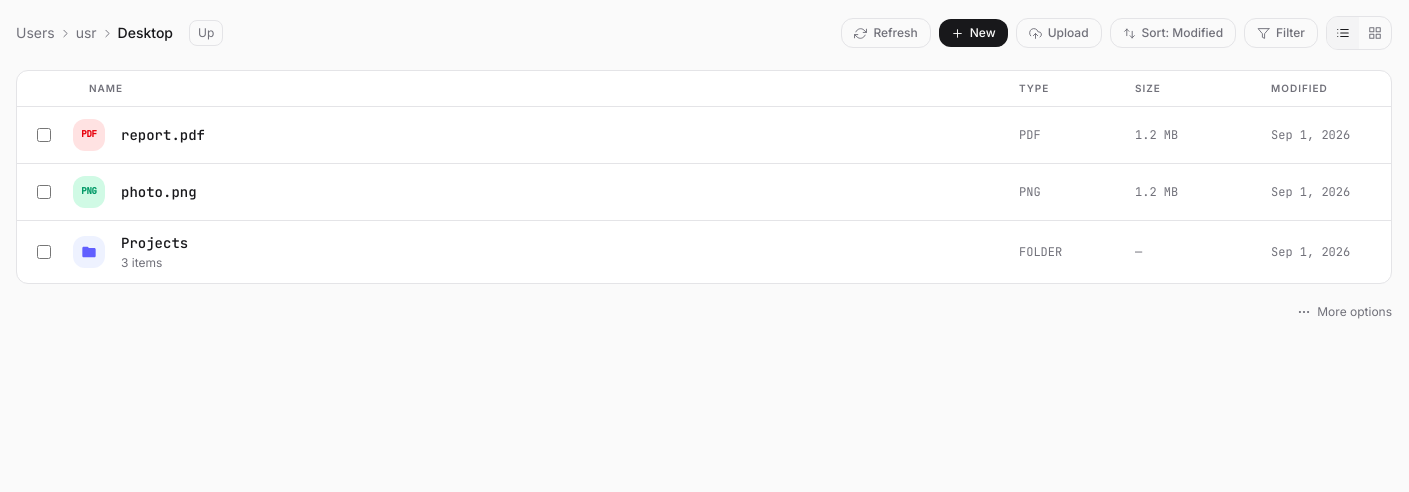
Files › filters the listing by file type
Click the button "Filter" at {"x": 1281, "y": 33}, box [1244,18,1318,48]
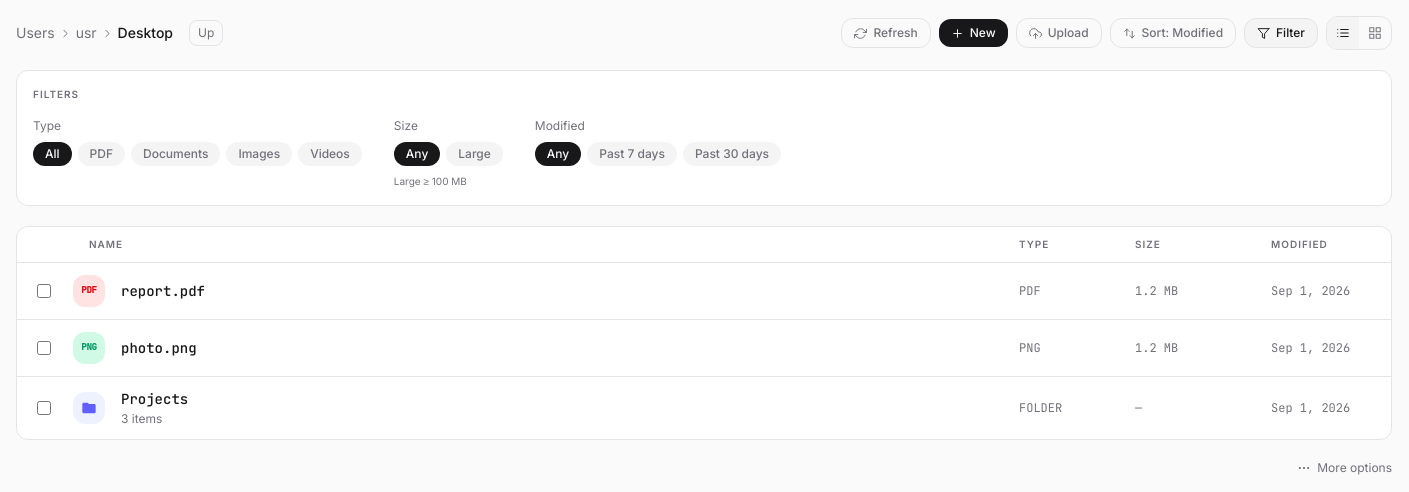
Click the button "PDF" at {"x": 101, "y": 154}, box [78,142,125,166]
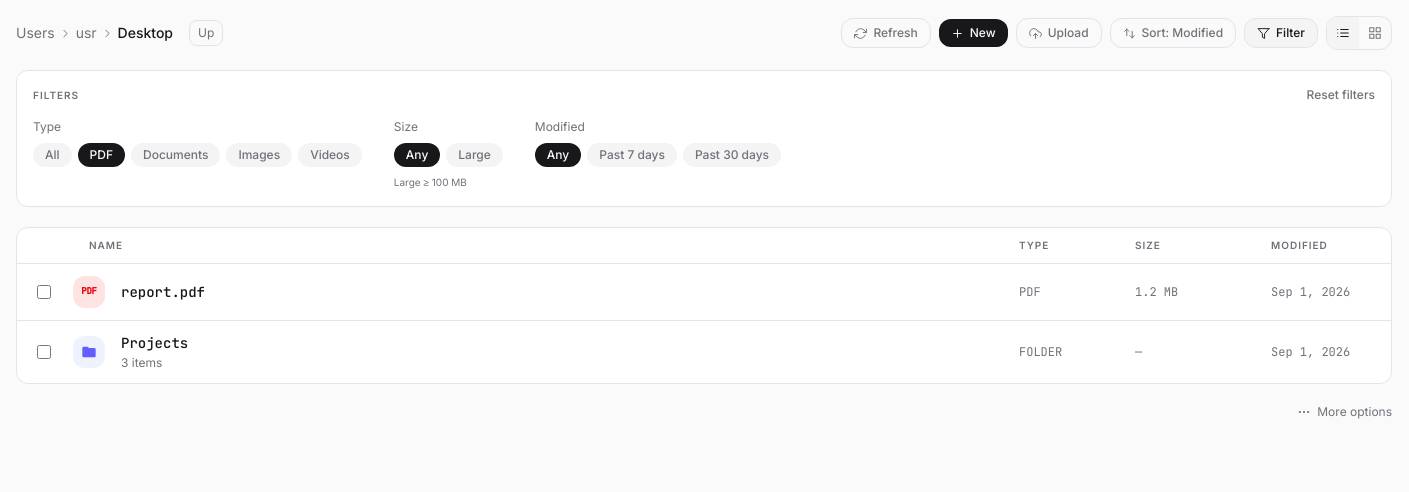
Expected: the text "report.pdf" is shown, [121,282,205,302]
Expected: the text "photo.png" is gone
